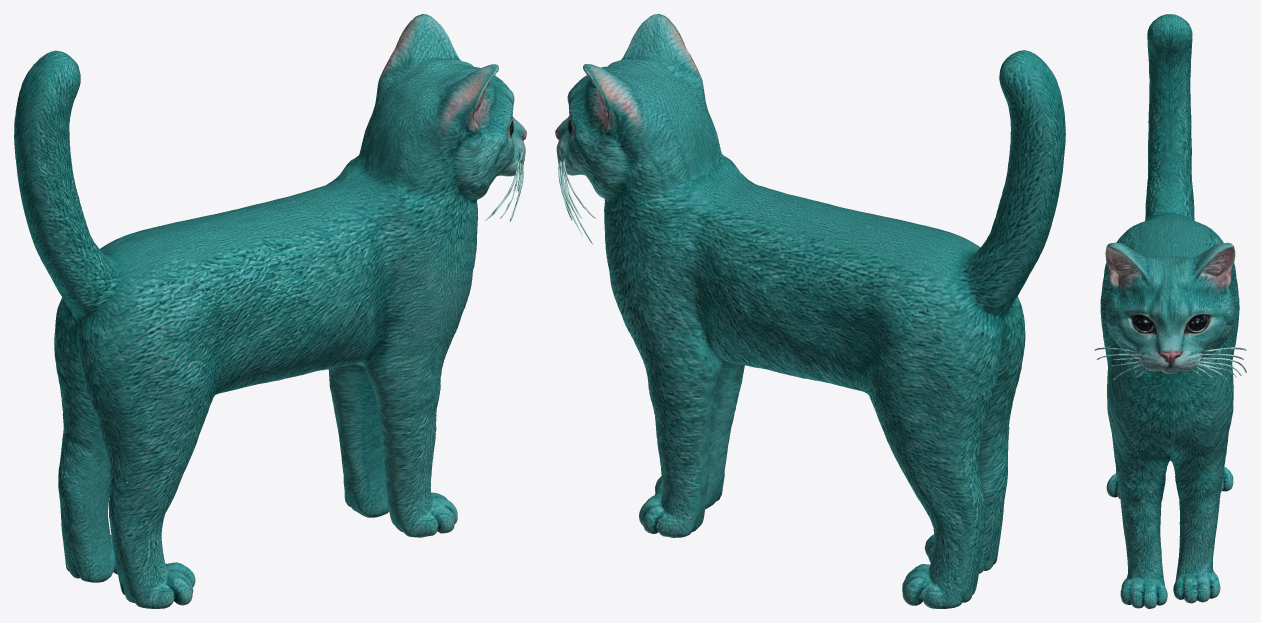
File: MOONRESCUE.glb
The picture shows the model from 3 angles, left to right: view 1: azimuth 30°, elevation 25°; view 2: azimuth 150°, elevation 25°; view 3: azimuth 270°, elevation 25°; orthographic projection. The views are drawn at different scales.
Parts seen in each view (by area): view 1: tripo_node_1f22e46f-2367-4ee2-87f3-4d8f3ca14bb6; view 2: tripo_node_1f22e46f-2367-4ee2-87f3-4d8f3ca14bb6; view 3: tripo_node_1f22e46f-2367-4ee2-87f3-4d8f3ca14bb6.
Part boxes in pixels (bbox=[...]): tripo_node_1f22e46f-2367-4ee2-87f3-4d8f3ca14bb6: bbox=[14, 14, 526, 608]; tripo_node_1f22e46f-2367-4ee2-87f3-4d8f3ca14bb6: bbox=[555, 14, 1065, 608]; tripo_node_1f22e46f-2367-4ee2-87f3-4d8f3ca14bb6: bbox=[1094, 14, 1246, 608].
Bounding box in the file's own units: 0.9638 × 0.9997 × 0.3098.
Materials: 1 (1 with a texture image).
